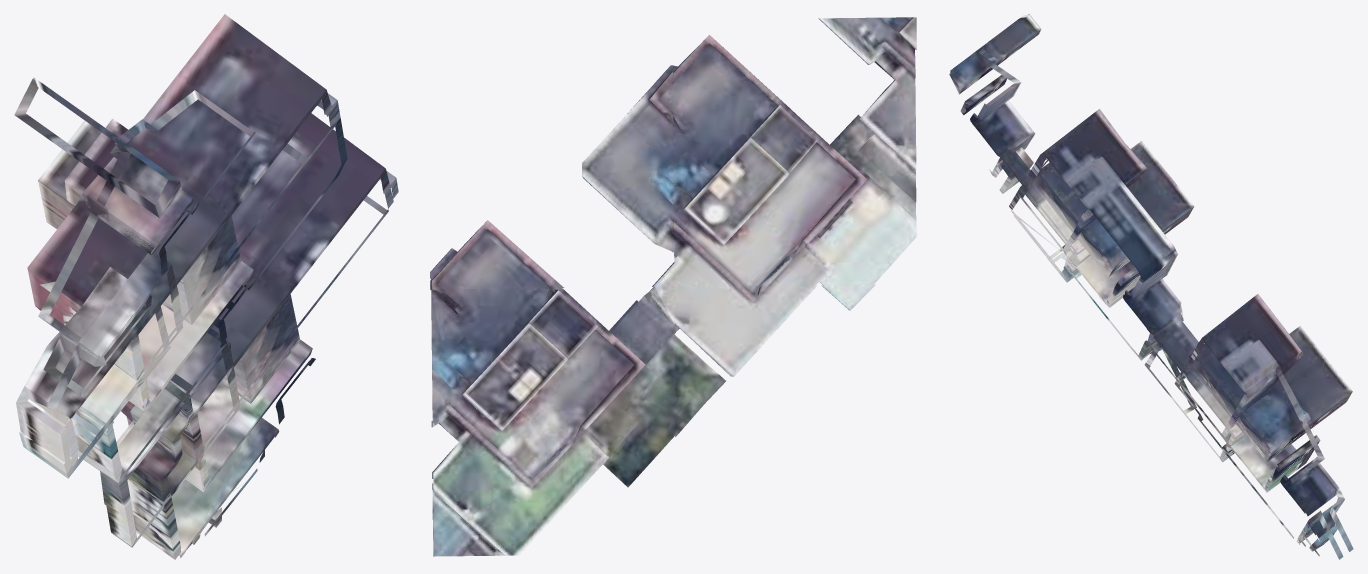
3 renders of one model, left to right at view 1: azimuth 30°, elevation 25°; view 2: azimuth 150°, elevation 25°; view 3: azimuth 270°, elevation 25°, orthographic. The views are drawn at different scales.
Size of the model in its own units: 30.38 by 38.53 by 33.3.
1 material, 1 textured.
